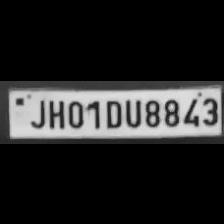0: (65, 96, 85, 128)
1: (85, 97, 103, 129)
3: (200, 94, 218, 126)
4: (180, 93, 200, 126)
8: (160, 95, 180, 127), (142, 96, 160, 127)
D: (102, 96, 122, 128)
H: (46, 96, 64, 128)
J: (27, 96, 46, 128)
U: (124, 96, 142, 127)
